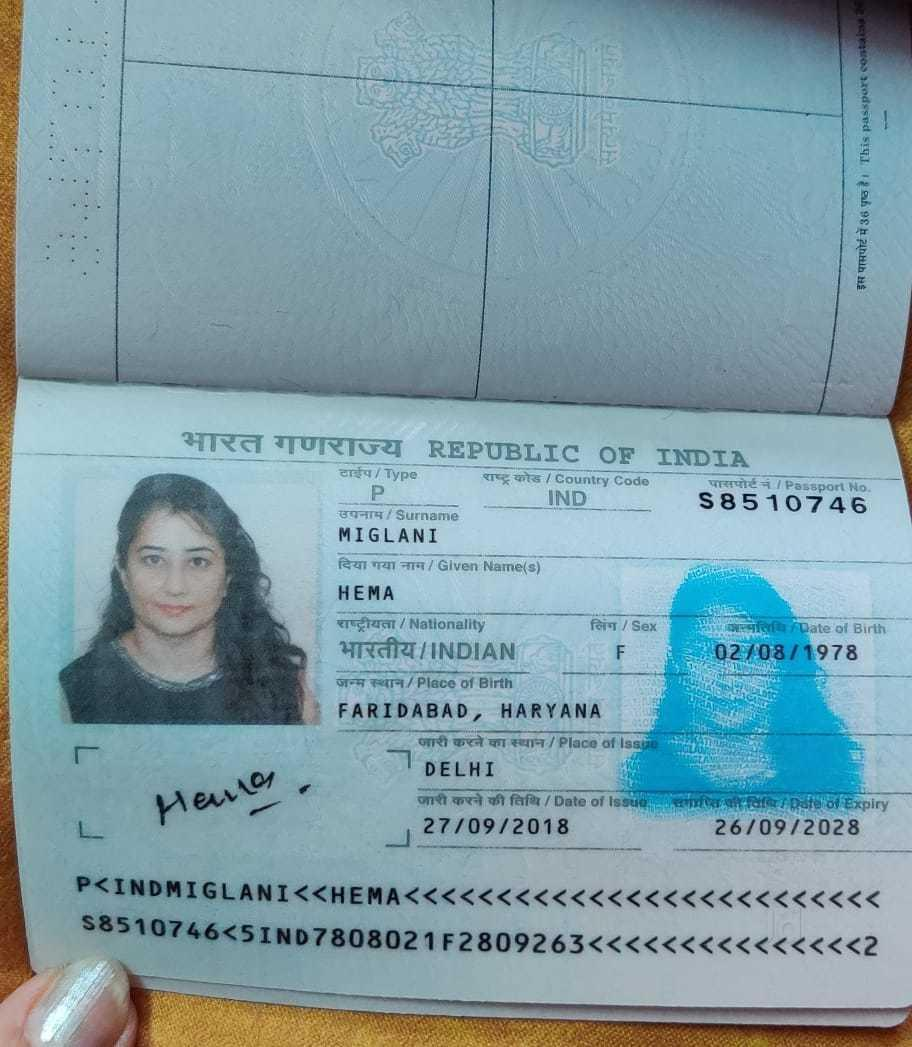DOB: (700, 632, 883, 678)
Surname: (330, 521, 466, 554)
country_code: (532, 480, 601, 520)
date_of_expiry: (704, 808, 876, 848)
date_of_issue: (412, 808, 583, 847)
details: (54, 863, 903, 965)
name: (334, 576, 413, 607)
nationality: (326, 626, 526, 667)
passport_no: (691, 486, 880, 527)
photo: (64, 460, 317, 724)
place_of_birth: (331, 693, 620, 729)
place_of_issue: (418, 752, 511, 791)
sex: (598, 632, 639, 671)
sign: (136, 758, 323, 839)
type: (352, 478, 403, 504)
